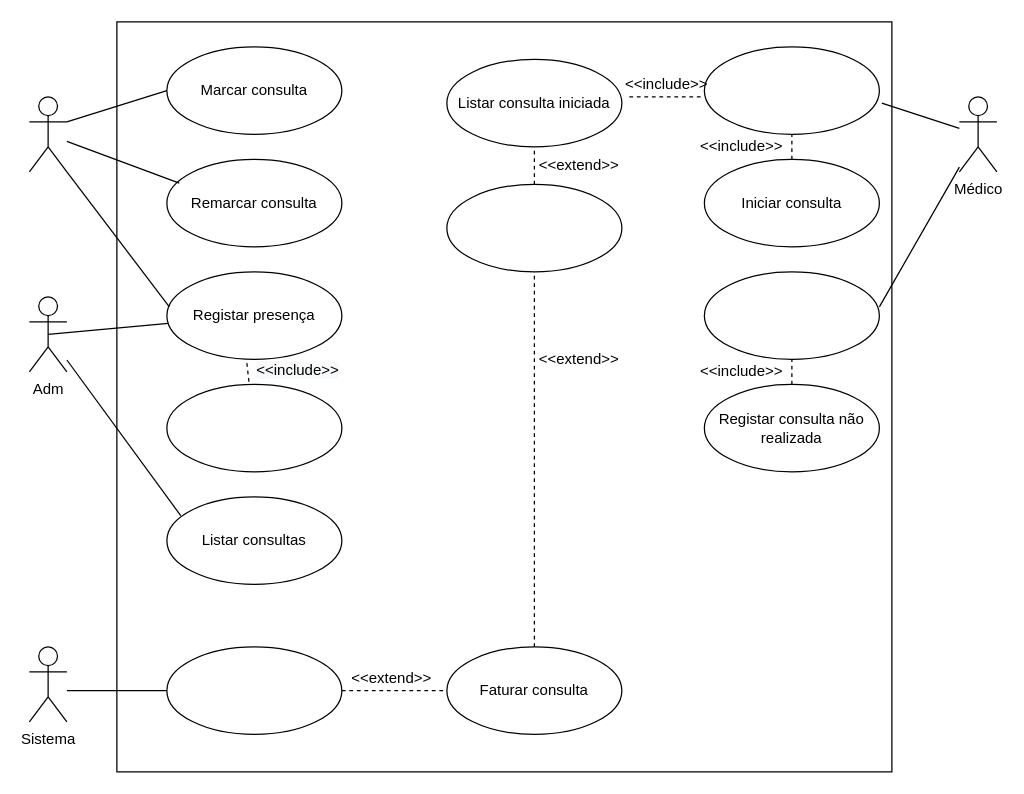
Image size: 1024x794. Some labels were removed from this diagram. Here are the shapes that lost their labels. From the top down, the box of each, then its label:
(703, 46, 879, 134): Chamar senha
(28, 96, 67, 172): Utente
(446, 183, 622, 272): Finalizar consulta
(703, 271, 879, 359): Desmarcar consulta
(166, 383, 342, 472): Gerar senha
(166, 646, 342, 734): Listar consultas realizadas
